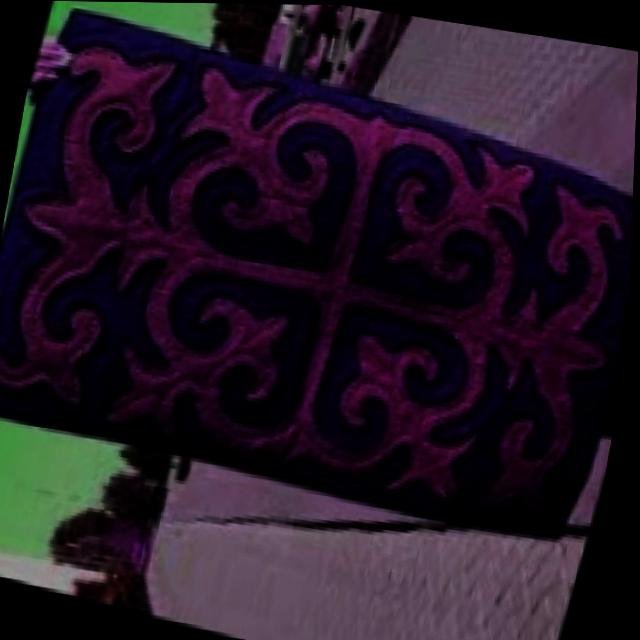Unity: (94, 51, 555, 517)
